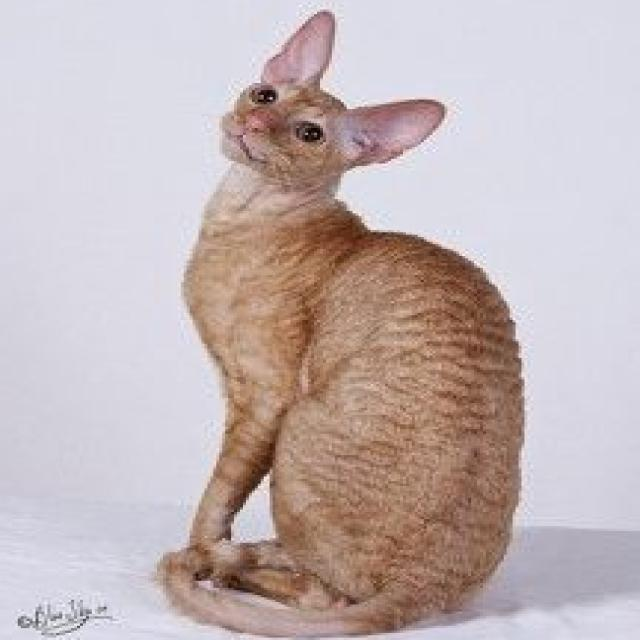Cornish Rex: (145, 0, 528, 640)
